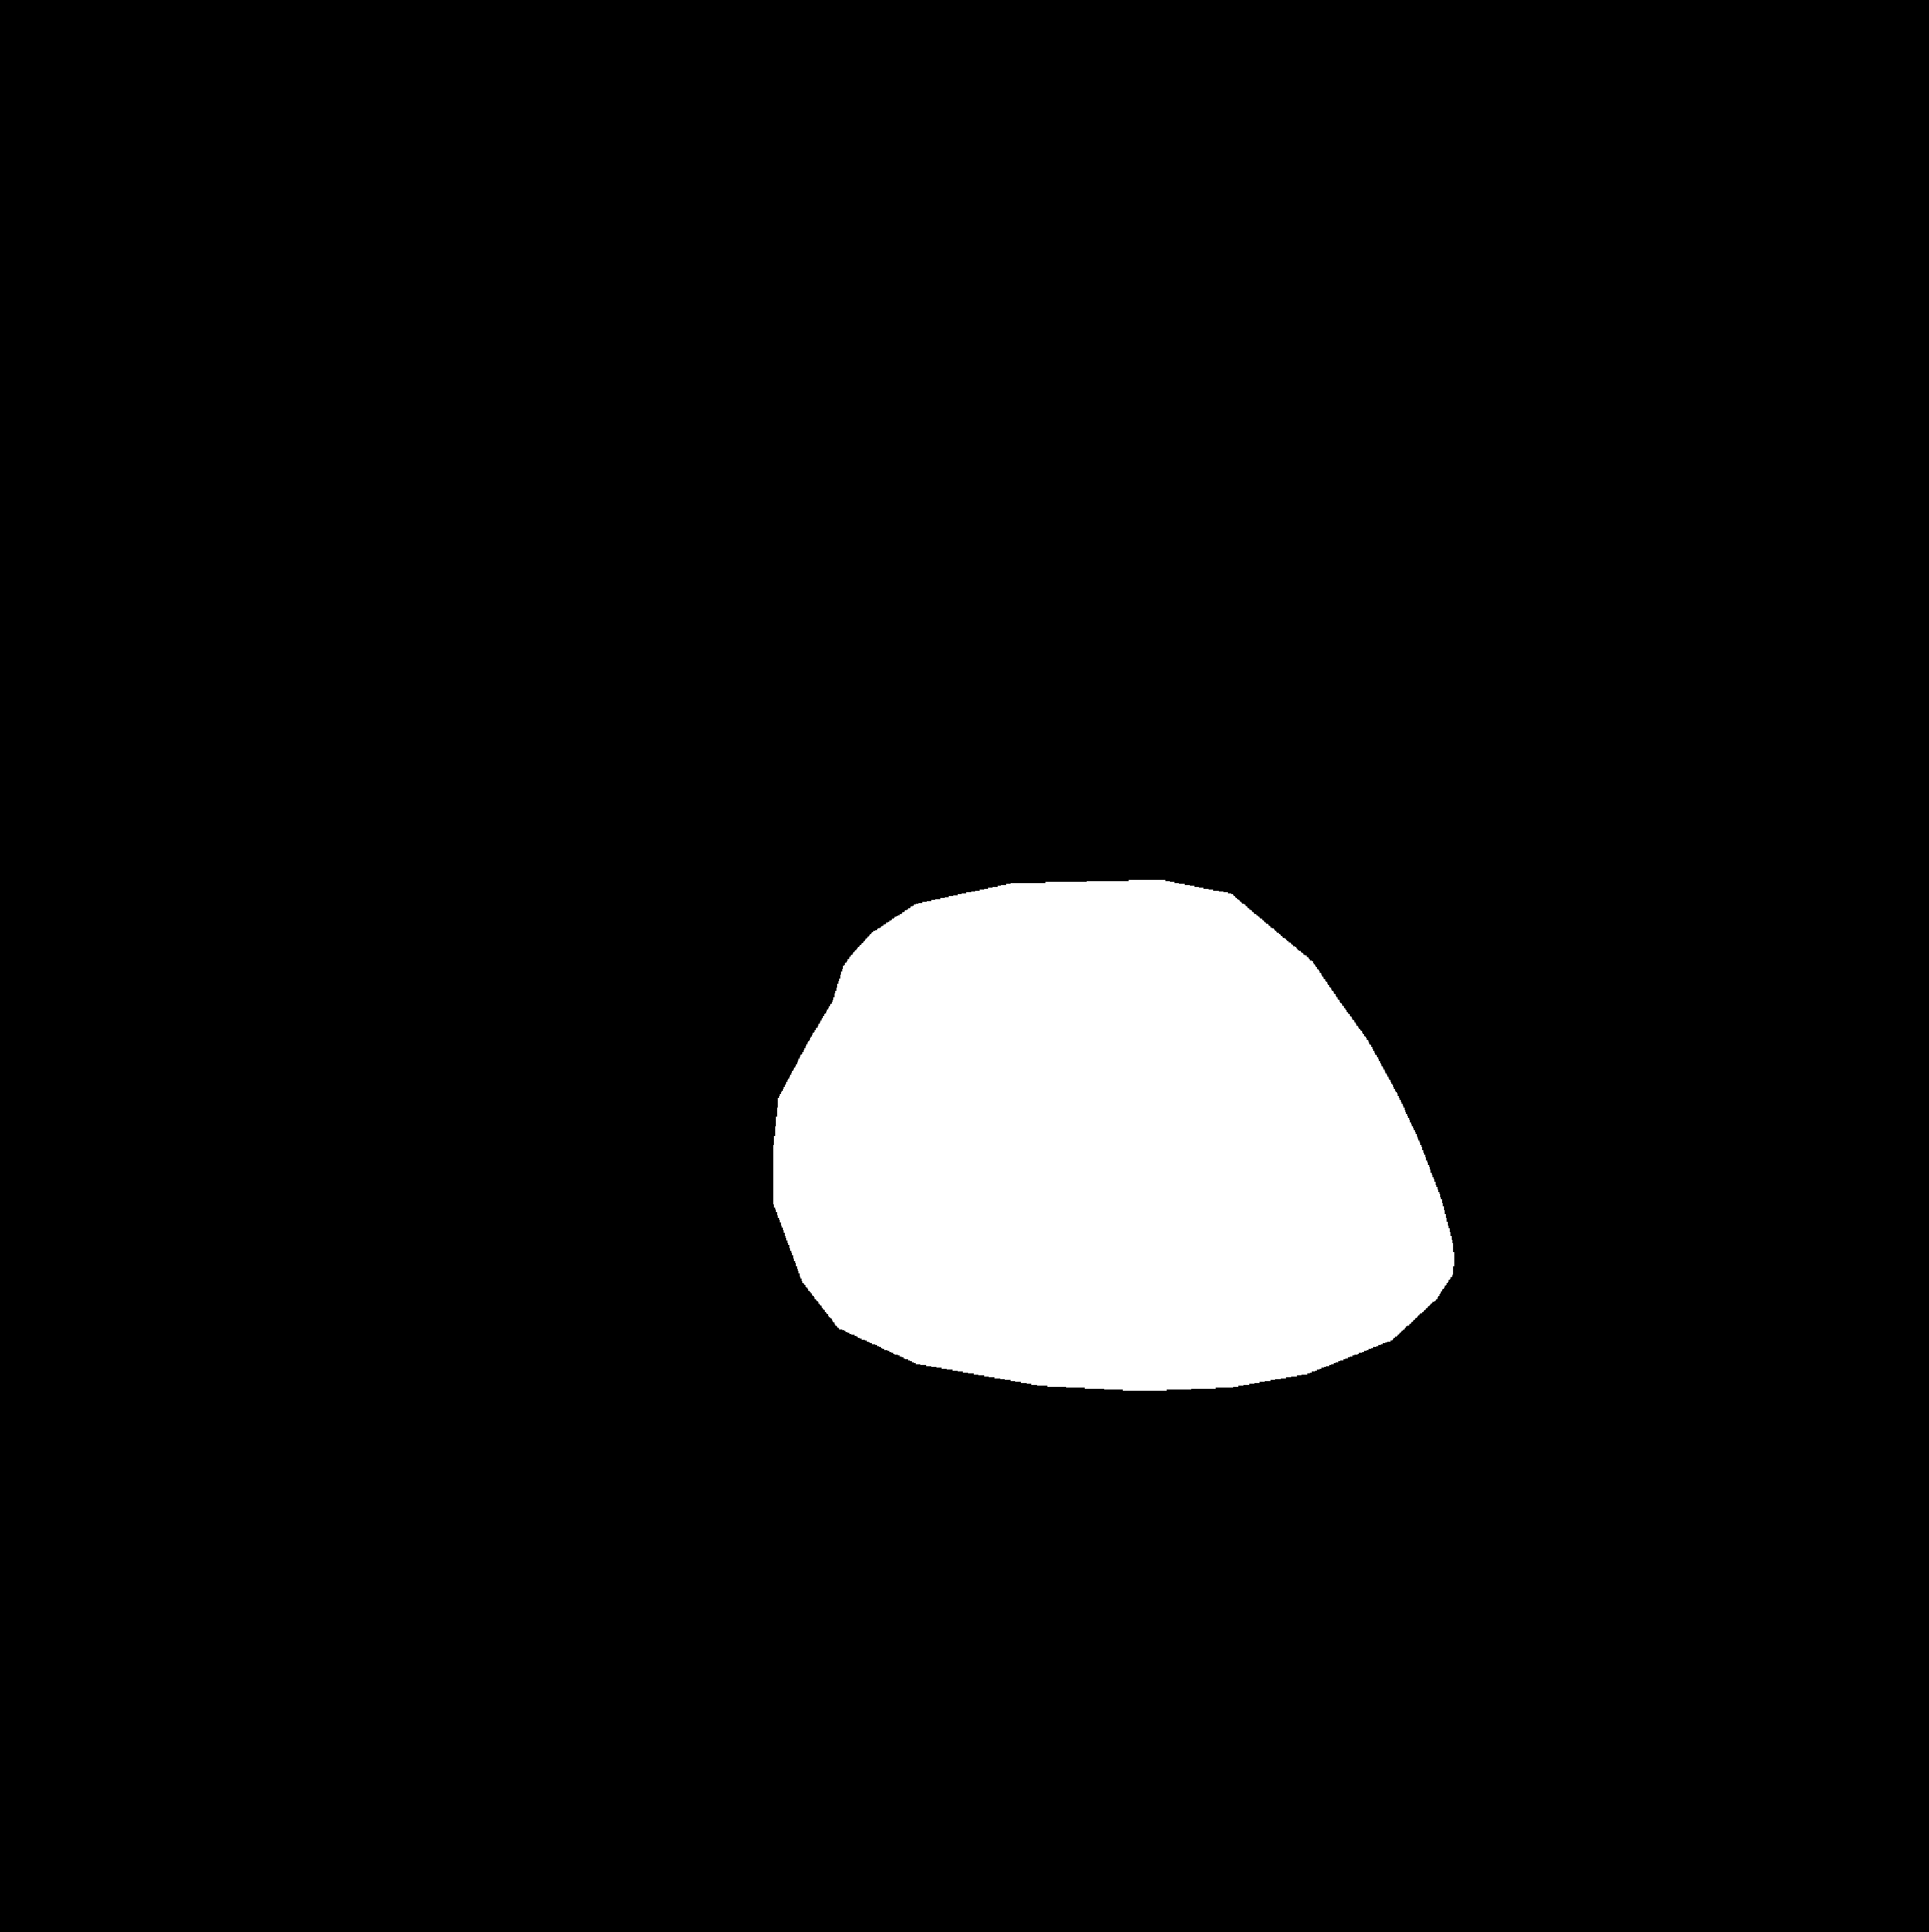heart: (774, 981, 1456, 1382)
left_lung: (399, 375, 903, 1411)
right_lung: (1092, 364, 1583, 1396)
